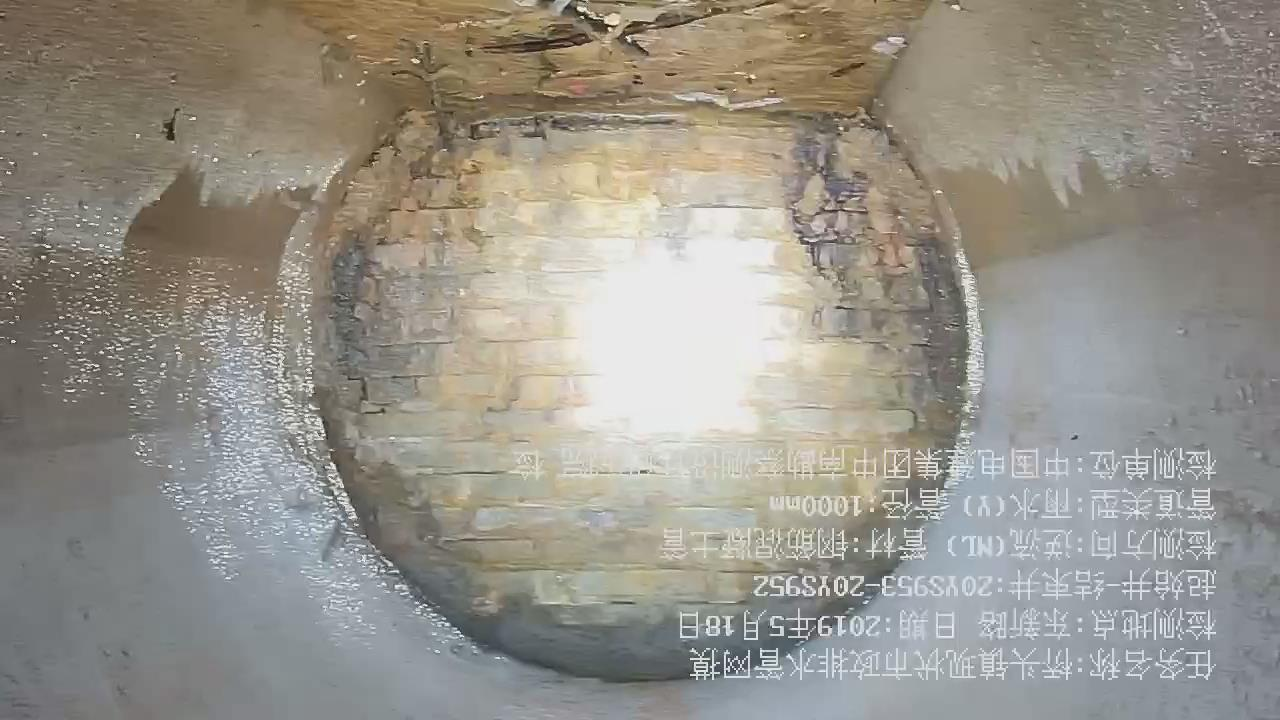CJ: (291, 1, 926, 120)
CQBG: (317, 94, 967, 679)
